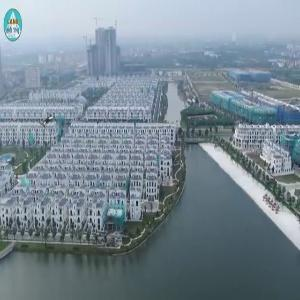drone: (21, 95, 76, 150)
